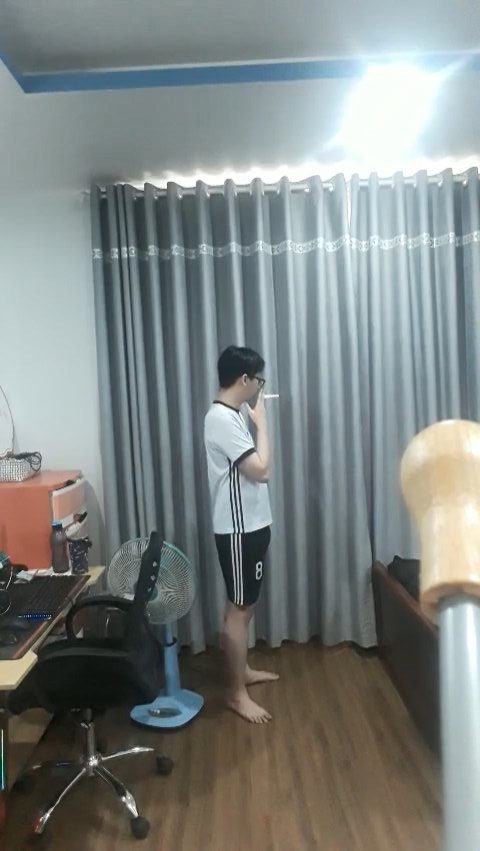cigarette: (263, 391, 281, 400)
person: (188, 338, 290, 731)
